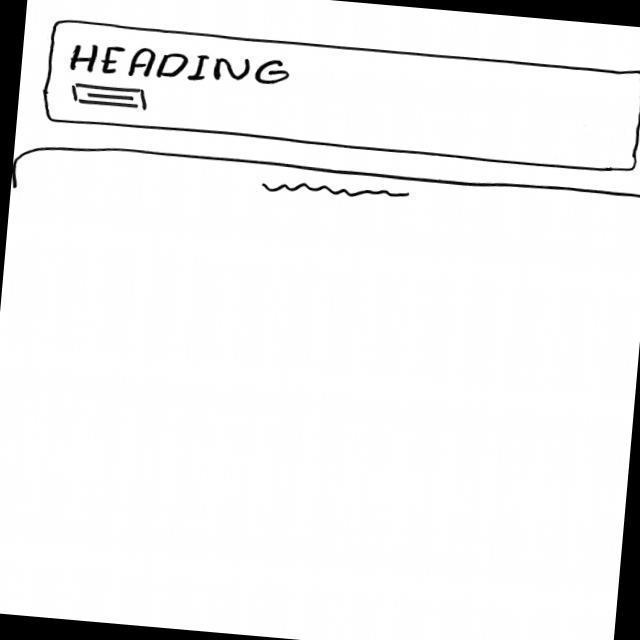container: (38, 16, 640, 178)
icon-button: (70, 83, 152, 112)
label: (66, 37, 294, 93)
text: (258, 176, 418, 206)
